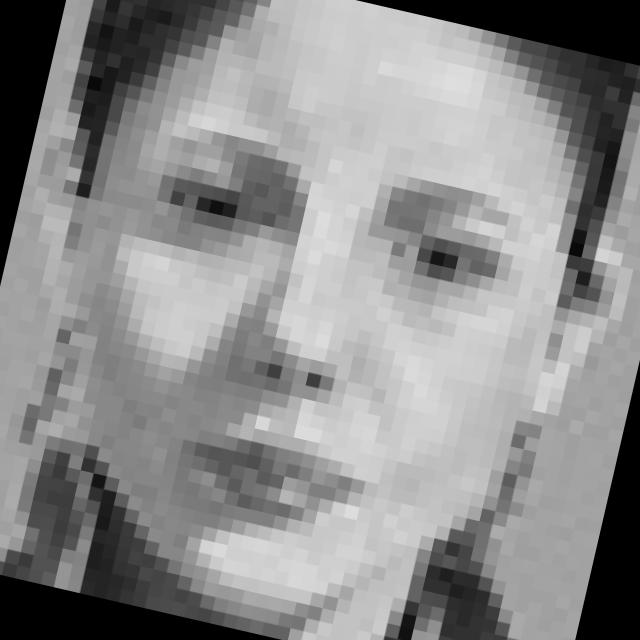neutral: (59, 102, 536, 581)
